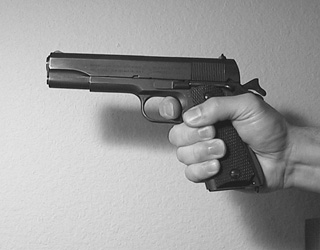pistol: (29, 30, 301, 213)
